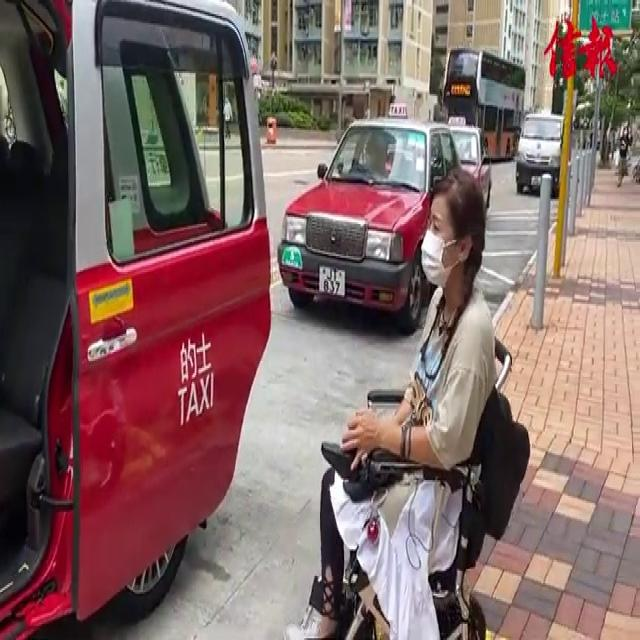wheelchairs: (291, 336, 536, 640)
